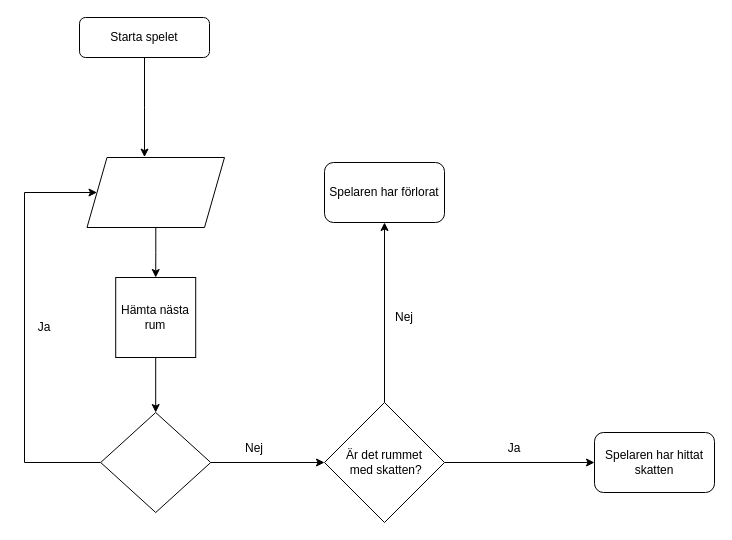
The diagram is 732 pixels wide and 540 high, and some of its shapes have lost their labels. The shapes that lost their labels are listed below. From the top down, each one's centre as x and y in pixels, then its label:
the point at 155,192: Välj en av två vägar
the point at 155,462: Har rummet vägval?
